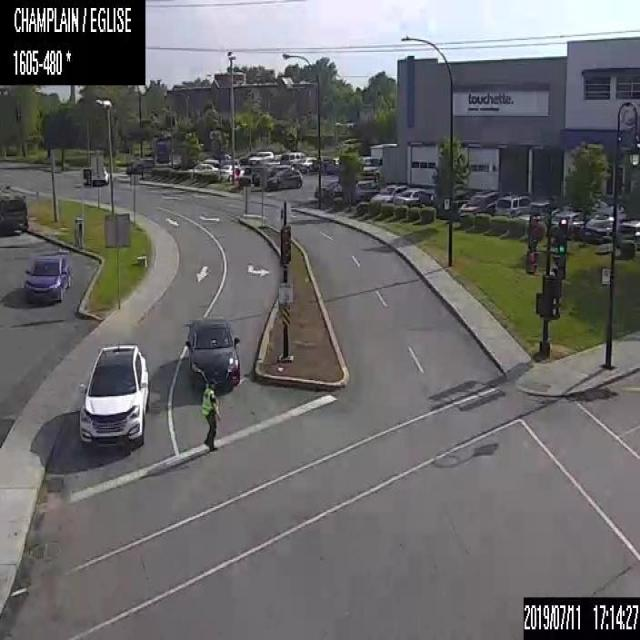pedestrian: (200, 378, 221, 450)
vehicle: (76, 339, 151, 445), (183, 316, 241, 393), (23, 253, 72, 302), (583, 200, 626, 234), (458, 189, 502, 221), (0, 190, 28, 234), (494, 193, 532, 218), (548, 208, 582, 234), (266, 166, 302, 189), (370, 182, 407, 203), (430, 187, 468, 207), (394, 187, 434, 205), (617, 218, 639, 249), (563, 200, 606, 214), (528, 199, 552, 224), (314, 178, 341, 200), (355, 178, 379, 201), (217, 163, 245, 181), (125, 156, 154, 173), (291, 155, 317, 173), (360, 156, 380, 178), (253, 167, 276, 186), (248, 150, 273, 165), (280, 151, 305, 166), (237, 167, 259, 184), (306, 158, 329, 173), (91, 165, 109, 184), (188, 162, 217, 173), (238, 150, 256, 165), (262, 152, 282, 165), (220, 152, 237, 164), (202, 157, 222, 166)
